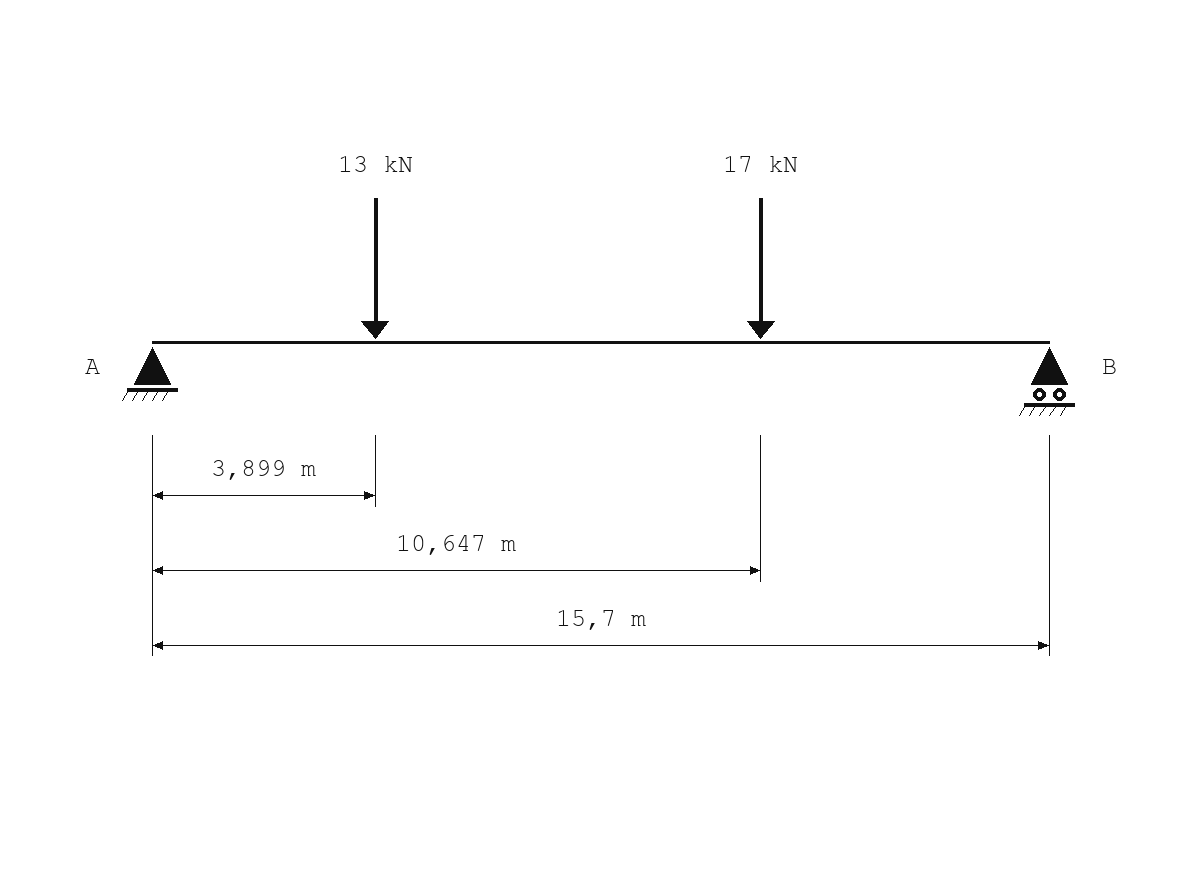pin_support: (122, 347, 178, 401)
point_load: (361, 198, 389, 339), (747, 198, 775, 339)
roller_support: (1019, 347, 1075, 416)
